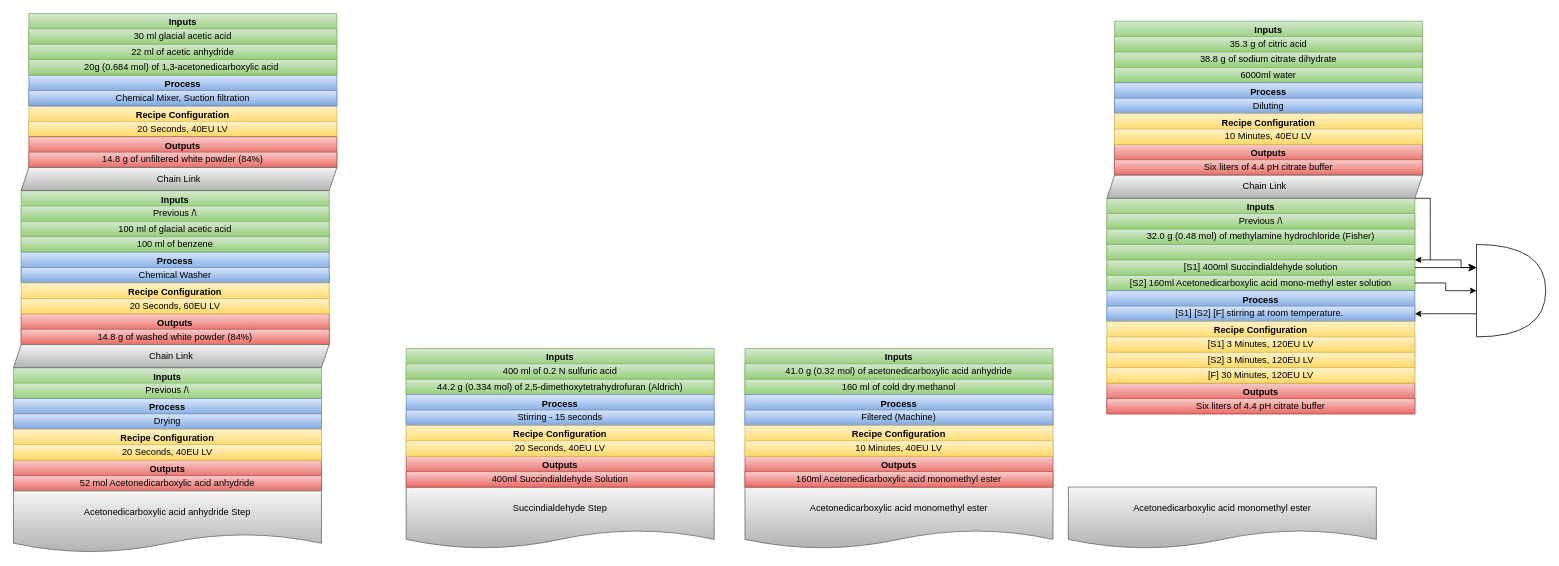
Some shapes in this 1559 by 566 pixel diagram are drawn without their labels. Each missing label, with the centre of its shape:
2.8g (0.32 mol) of sodium hydroxide.: the point at 1260,252
Sequential Repeat Denoted with [S1] then [S2]: the point at 1511,290
